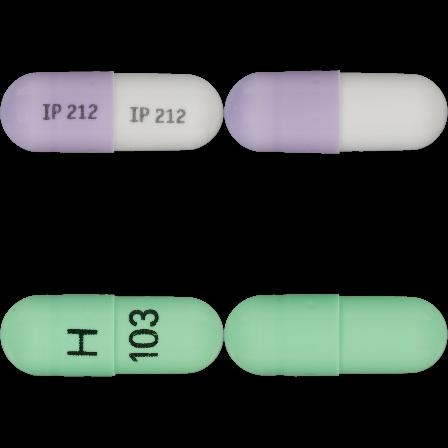61786-012: (0, 0, 224, 224)
